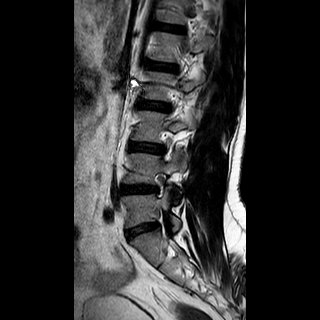RFS1: (146, 167, 173, 200)
